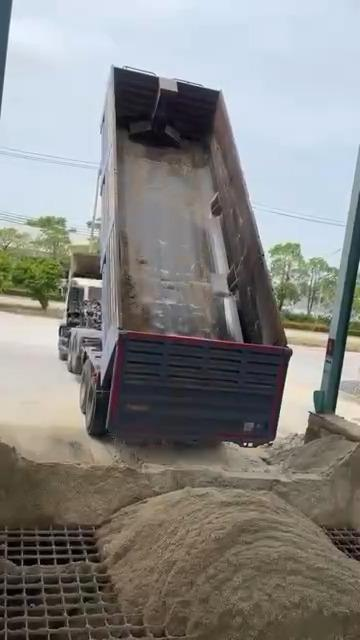sand: (100, 488, 359, 638), (1, 432, 360, 528), (1, 559, 96, 583)
